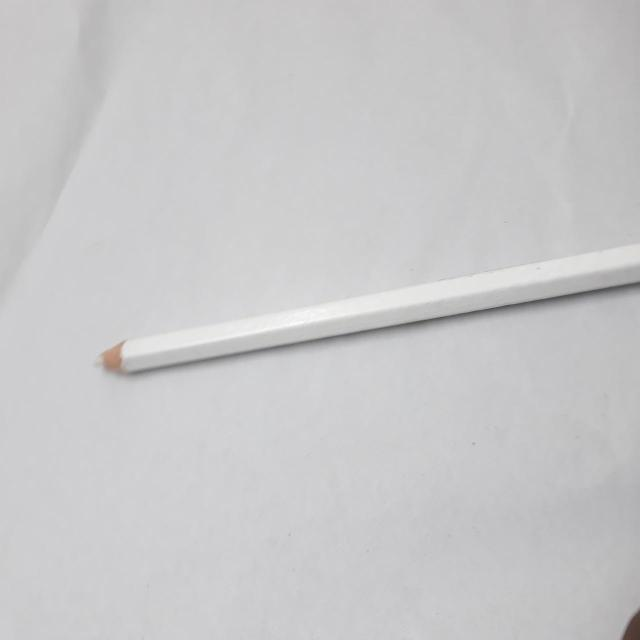pencil: (96, 244, 640, 374)
